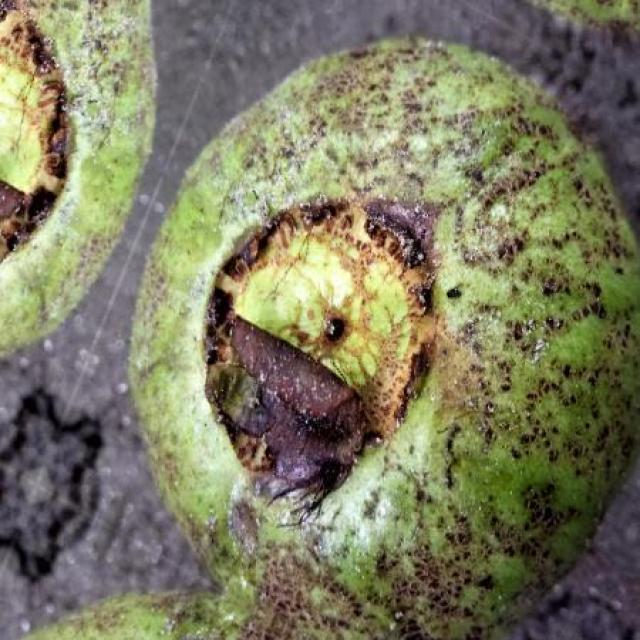Scab: (130, 39, 640, 639)
